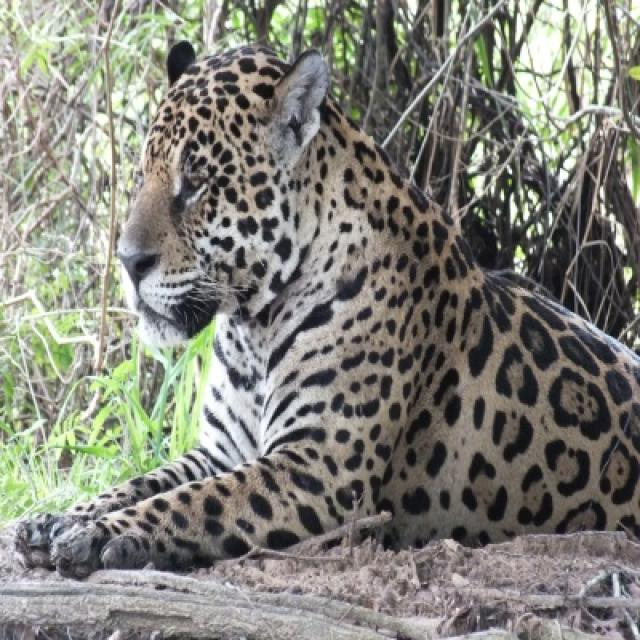Jaguar: (6, 42, 638, 584)
